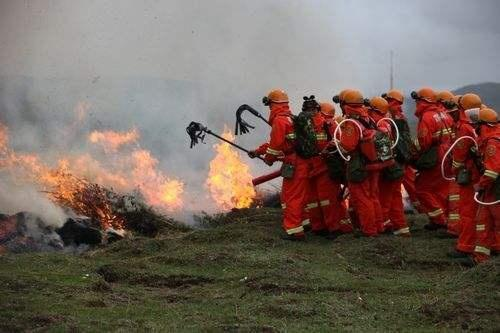fire: (2, 106, 184, 232), (200, 127, 263, 214)
